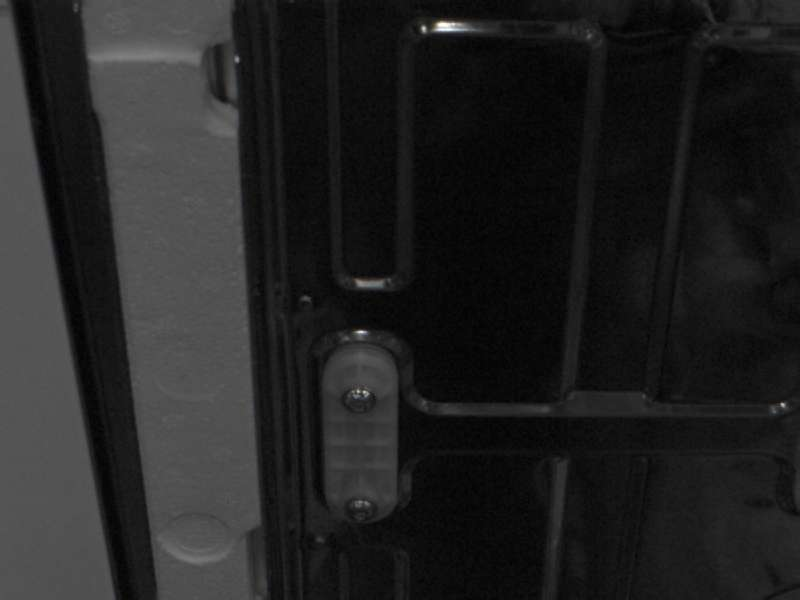screw: (342, 387, 376, 414), (346, 498, 377, 523)
